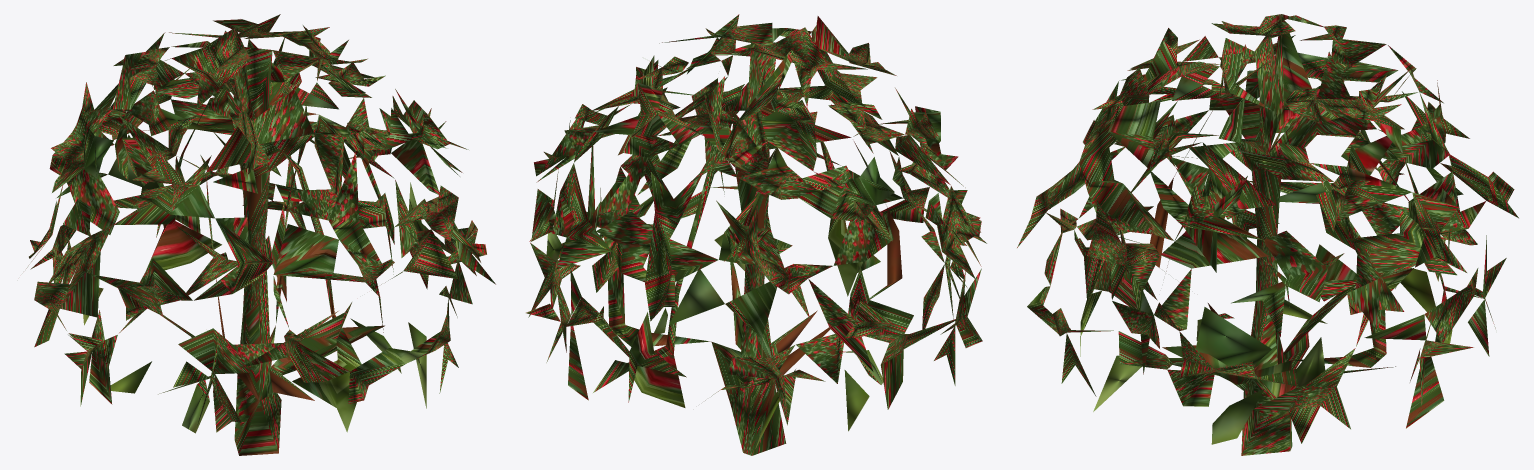
The model's file is ixora-far.glb.
The picture shows the model from 3 angles, left to right: view 1: azimuth 30°, elevation 25°; view 2: azimuth 150°, elevation 25°; view 3: azimuth 270°, elevation 25°; orthographic projection. The views are drawn at different scales.
Parts seen in each view (by area): view 1: tripo_node_f31ed3b5-2bb8-4b9e-9fdc-38a677c2f05b; view 2: tripo_node_f31ed3b5-2bb8-4b9e-9fdc-38a677c2f05b; view 3: tripo_node_f31ed3b5-2bb8-4b9e-9fdc-38a677c2f05b.
Boxes of the visible parts, box(x1,y1,x2,y2) form: tripo_node_f31ed3b5-2bb8-4b9e-9fdc-38a677c2f05b: box(26, 14, 495, 455); tripo_node_f31ed3b5-2bb8-4b9e-9fdc-38a677c2f05b: box(526, 14, 986, 455); tripo_node_f31ed3b5-2bb8-4b9e-9fdc-38a677c2f05b: box(1017, 14, 1518, 455).
Size of the model in its own units: 0.9986 by 0.91 by 0.9956.
1 material, 1 textured.
